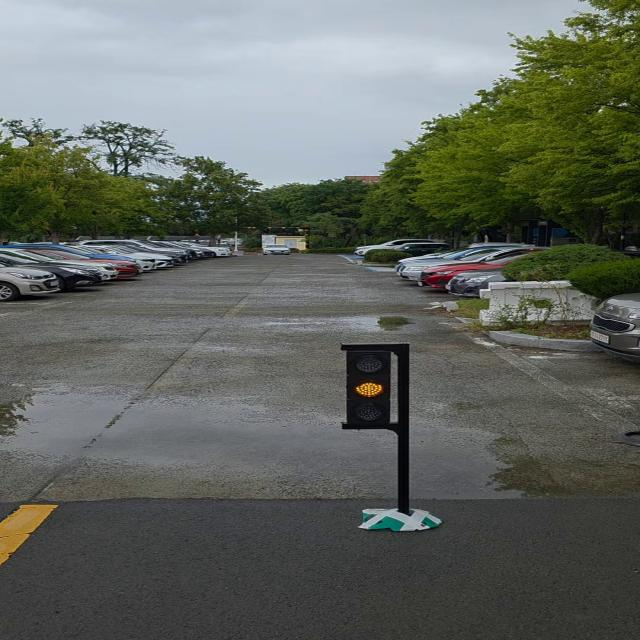yellow: (341, 344, 401, 430)
